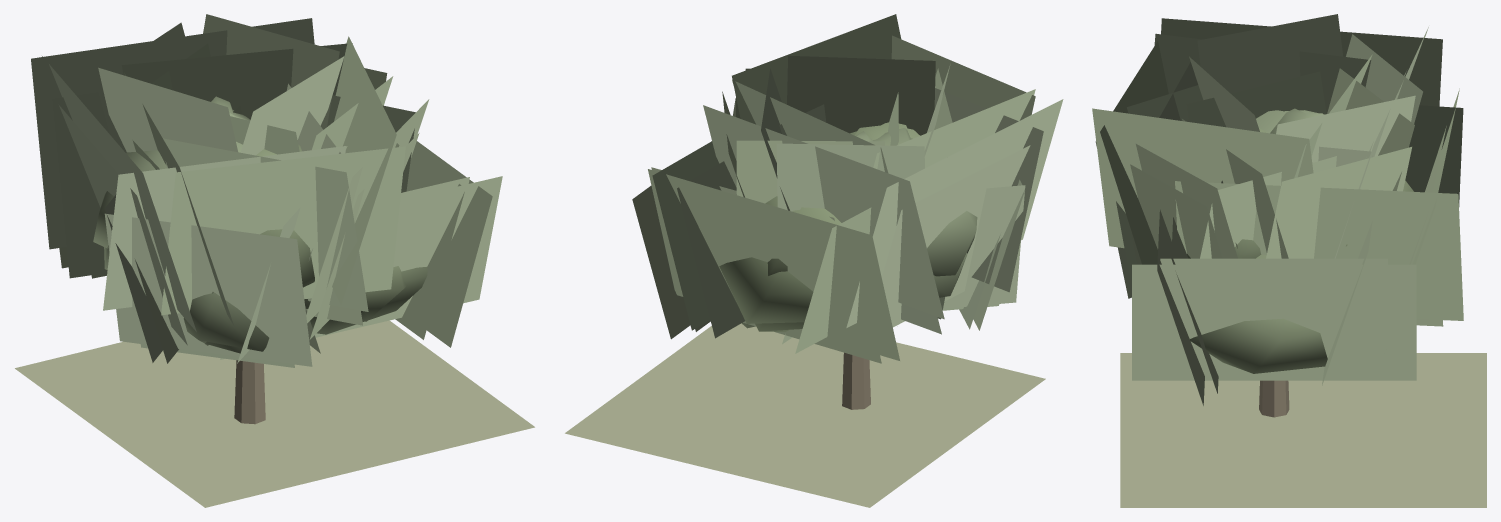
The picture shows the model from 3 angles, left to right: view 1: azimuth 30°, elevation 25°; view 2: azimuth 150°, elevation 25°; view 3: azimuth 270°, elevation 25°; orthographic projection. The views are drawn at different scales.
Parts seen in each view (by area): view 1: Near, Mid, Far; view 2: Near, Mid, Far; view 3: Near, Mid.
Part boxes in pixels (x1,y1,x2,y2): Near: (15,14,534,507); Mid: (31,18,502,366); Far: (212,266,406,321); Near: (565,14,1045,507); Mid: (632,68,1063,360); Far: (765,196,841,275); Near: (1092,14,1486,507); Mid: (1095,18,1463,405).
Bounding box in the file's own units: 1.13 × 1.03 × 1.08.
